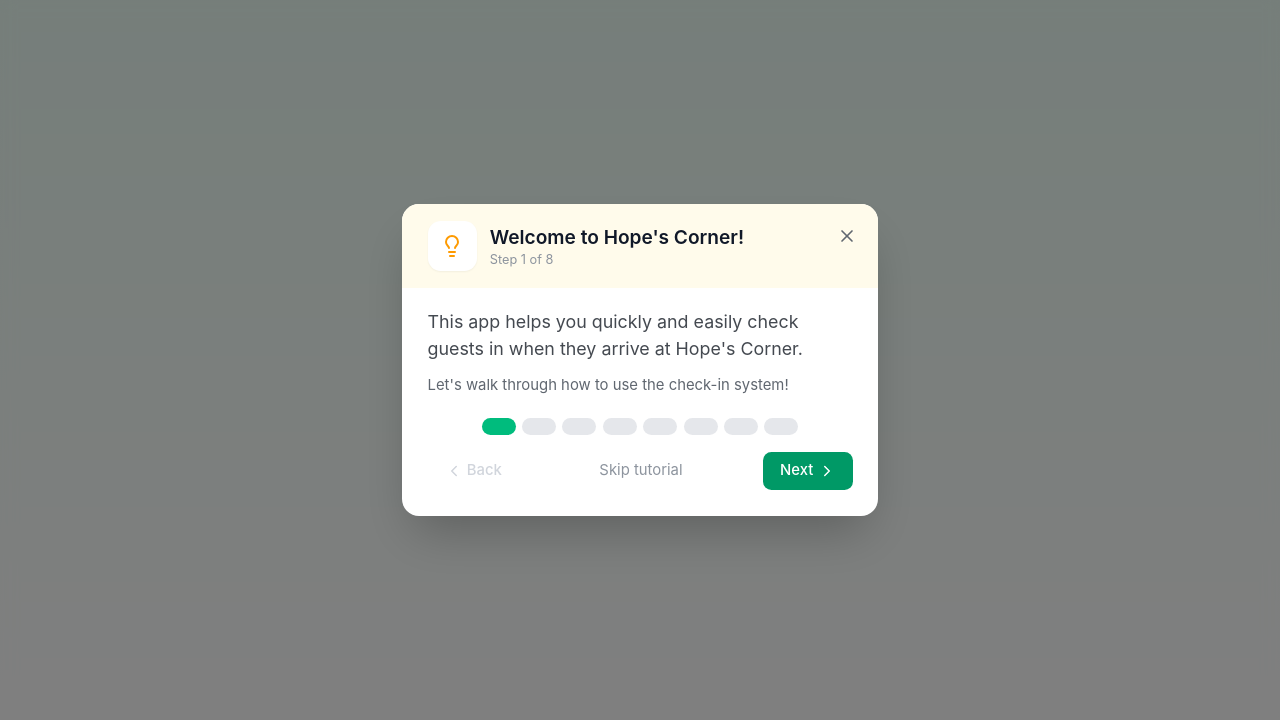
Test case: TutorialModal › should navigate to previous step when Back button is clicked
Go to step 2
Click the button "Next": (808, 471) [763,452,852,490]
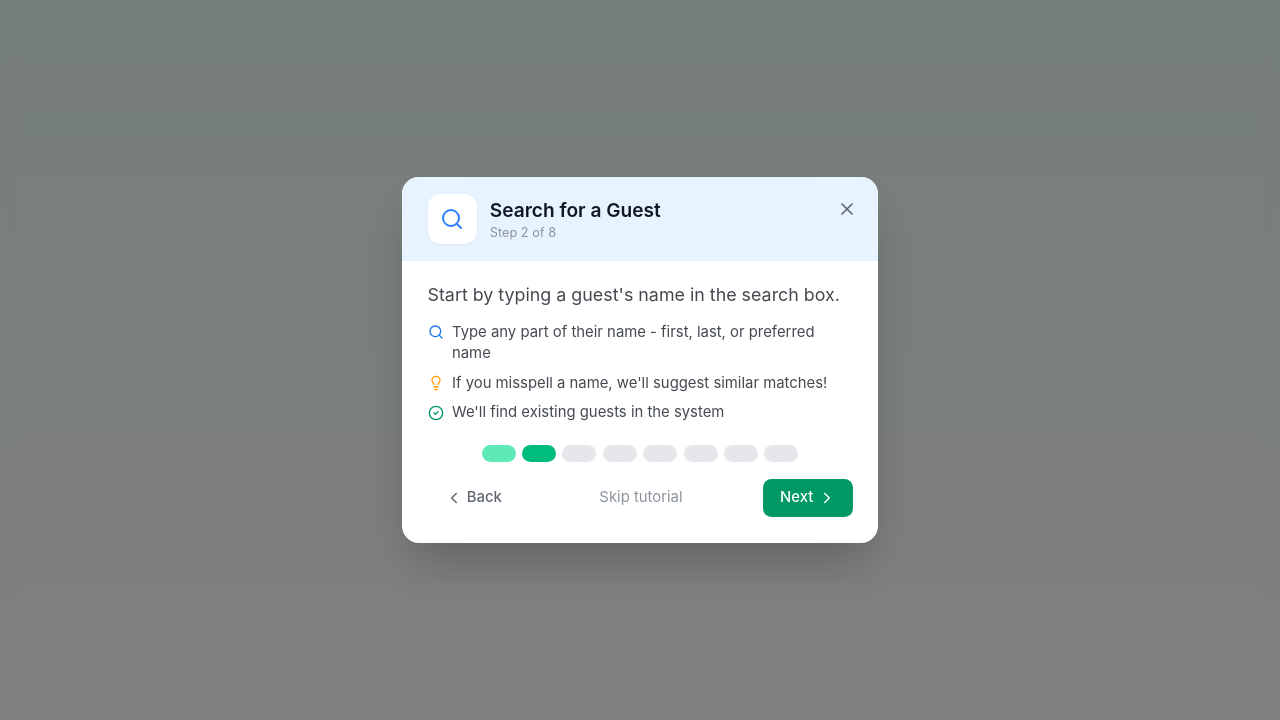
Check: the heading "Search for a Guest" is shown, box [490,196,661,226]
Click Back
Click the button "Back": (473, 498) [428,479,519,517]
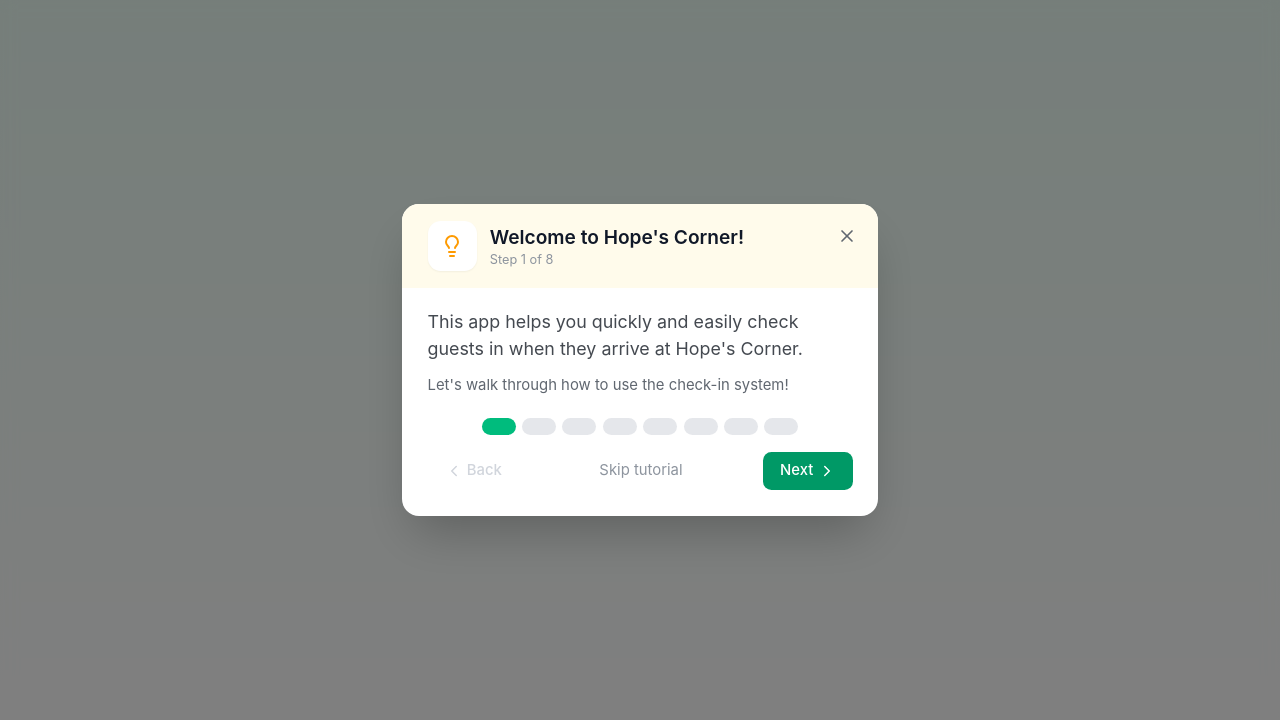
Check: the heading "Welcome to Hope's Corner!" is shown, box [490,223,744,252]
